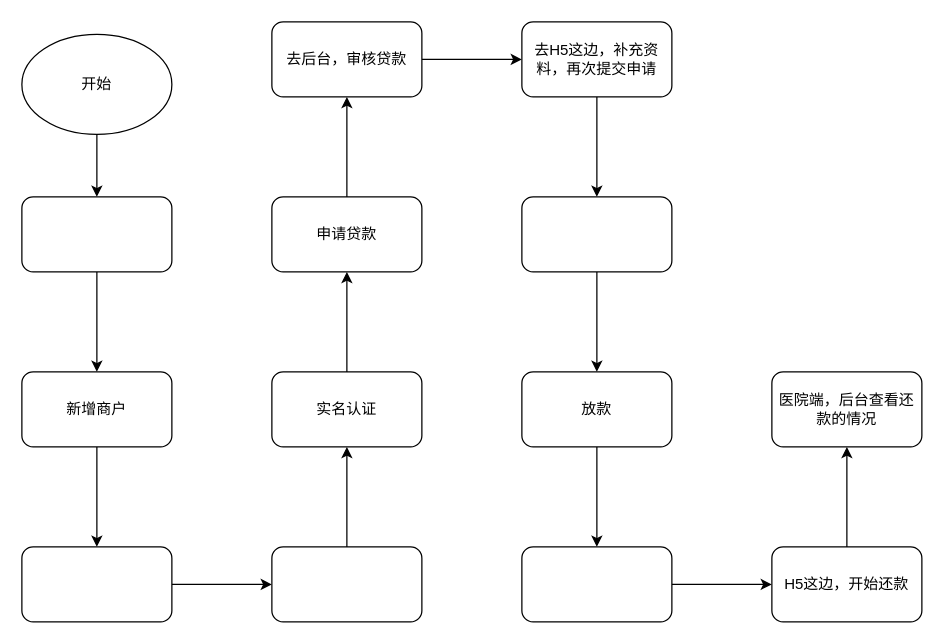
The diagram is 944 pixels wide and 644 high, and some of its shapes have lost their labels. The centre of each missing label's shape, as x and y in pixels:
"使用APP注册账号，扫描门店二维码进入系统" belongs at (x=346, y=584).
"后台，审核" belongs at (x=596, y=234).
"新增门店" belongs at (x=96, y=584).
"权限控制，添加用户，分配权限" belongs at (x=96, y=234).
"财务审核" belongs at (x=596, y=584).
